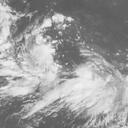cyclone: (18, 12, 110, 106)
